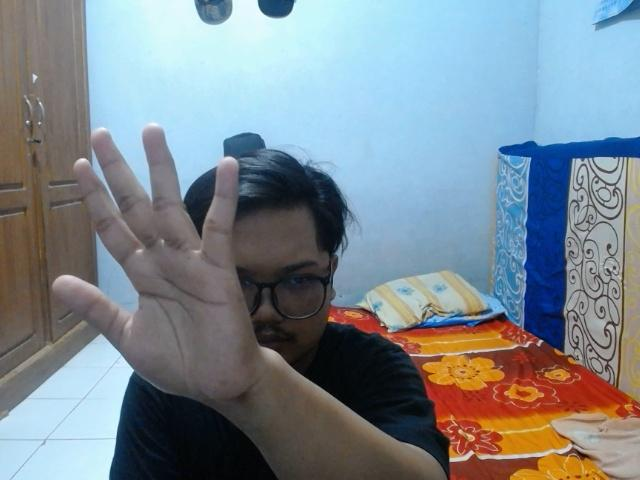Release: (48, 123, 260, 408)
